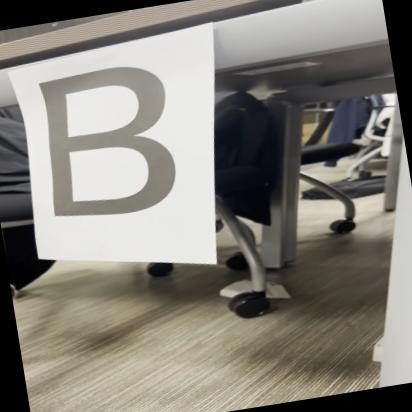seat: (24, 48, 187, 238)
